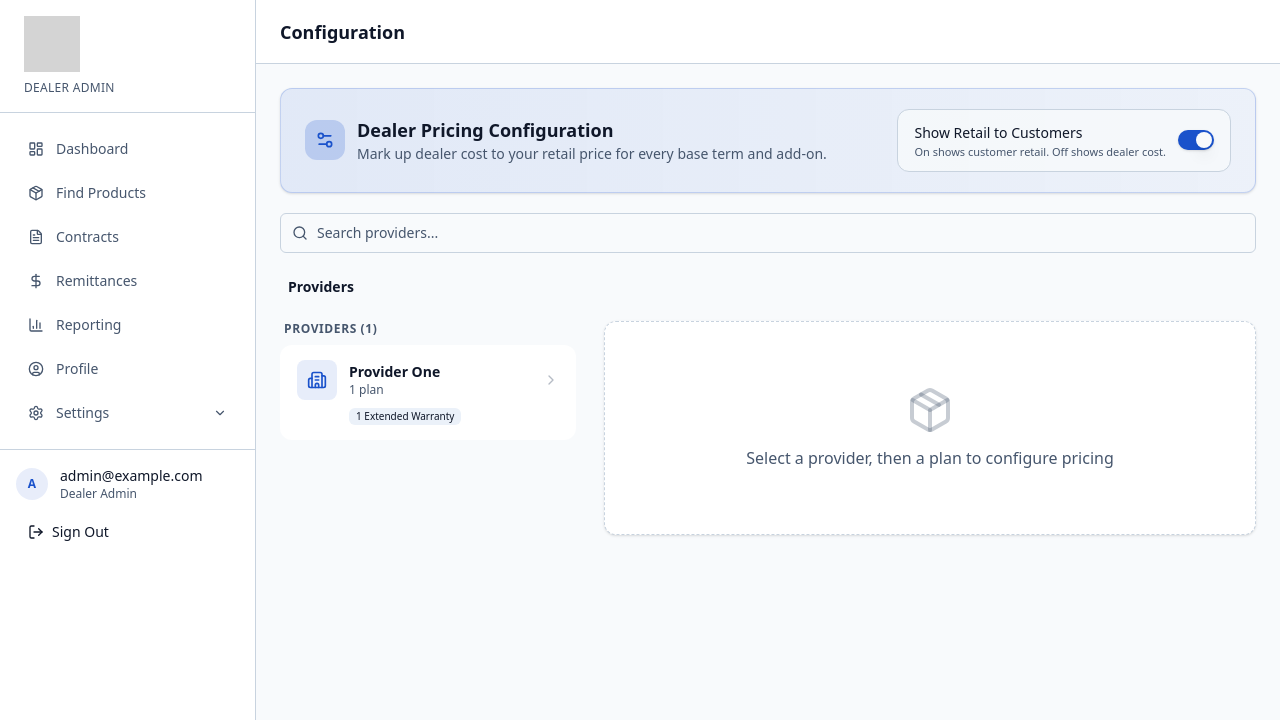
Test: dealer pricing recommendation display › keeps REC visible after a retail price has been applied
Click the button "Provider One 1 plan 1 Extended Warranty".
click(317, 380)  # box [280,344,576,440]
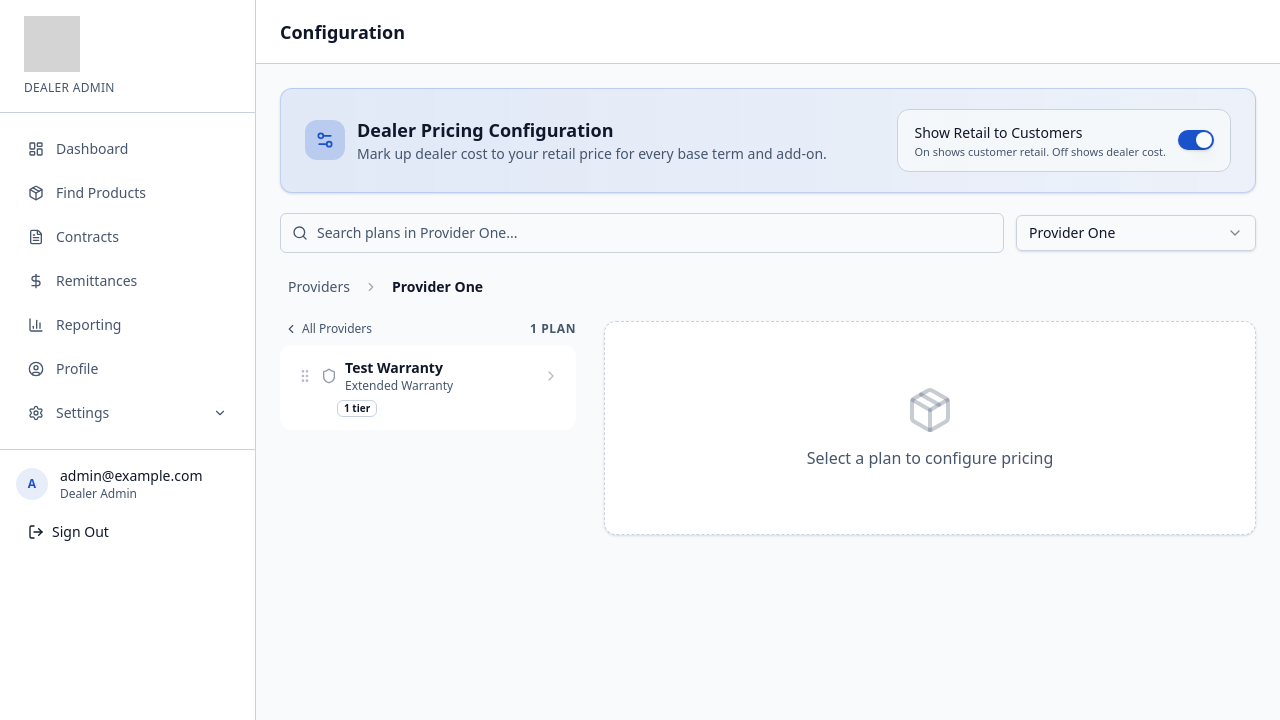
Click the button "Test Warranty Extended Warranty 1 tier".
click(428, 387)  # box [280,344,576,430]
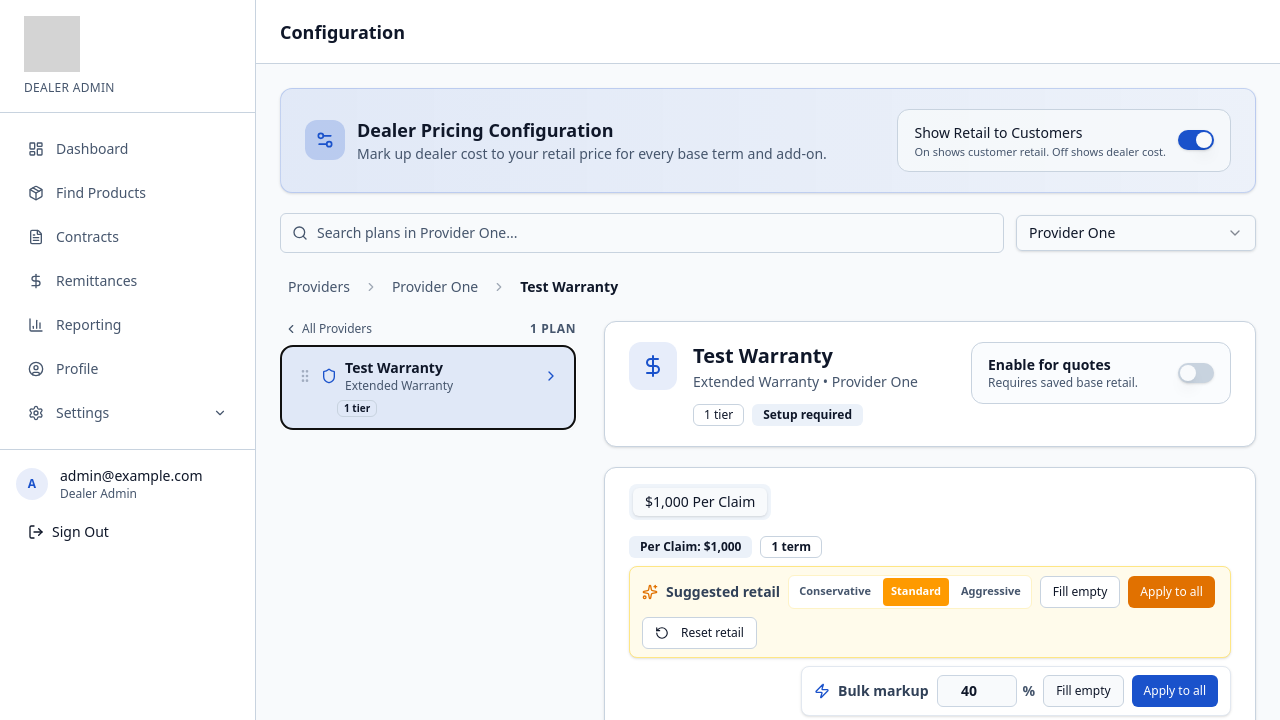
Click the button "Aggressive".
click(991, 592)  # box [953,578,1029,606]
(page scrolled)
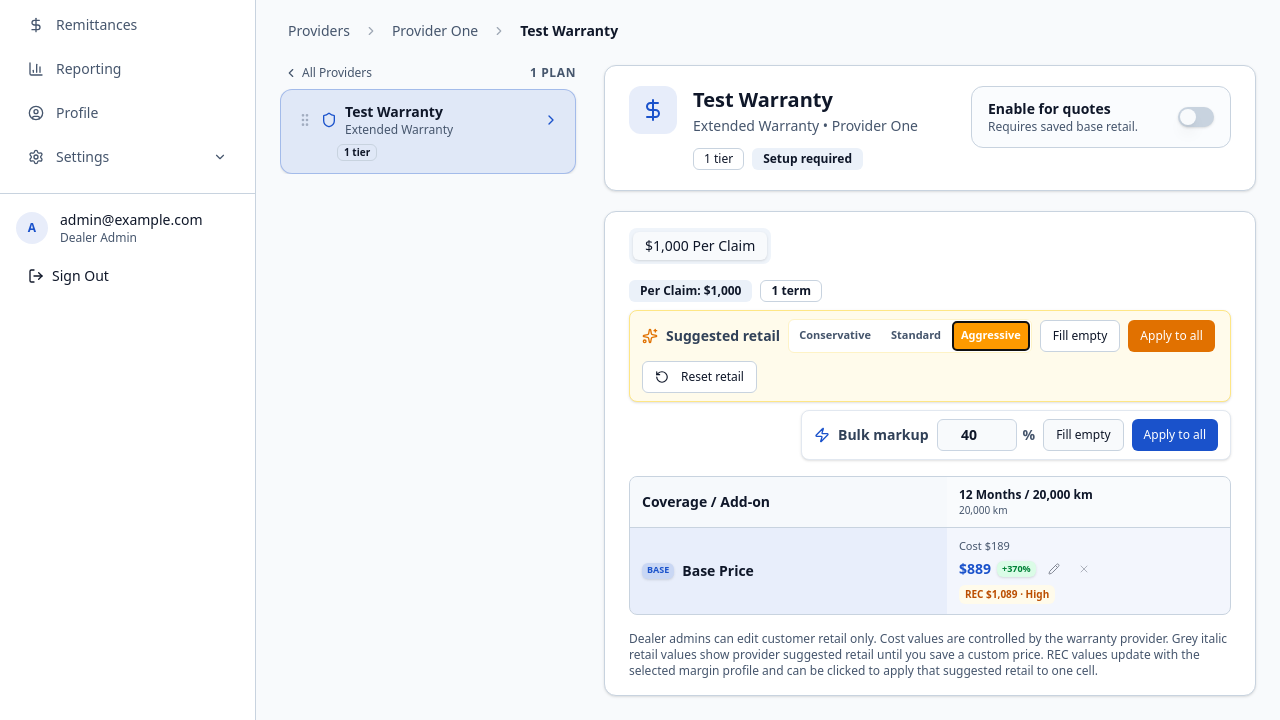
Check: the text "$889" is shown, box [959,560,991,580]
Check: the button "REC $1,089 · High" is shown
Click the button "REC $1,089 · High".
click(1007, 595)  # box [959,586,1055,604]
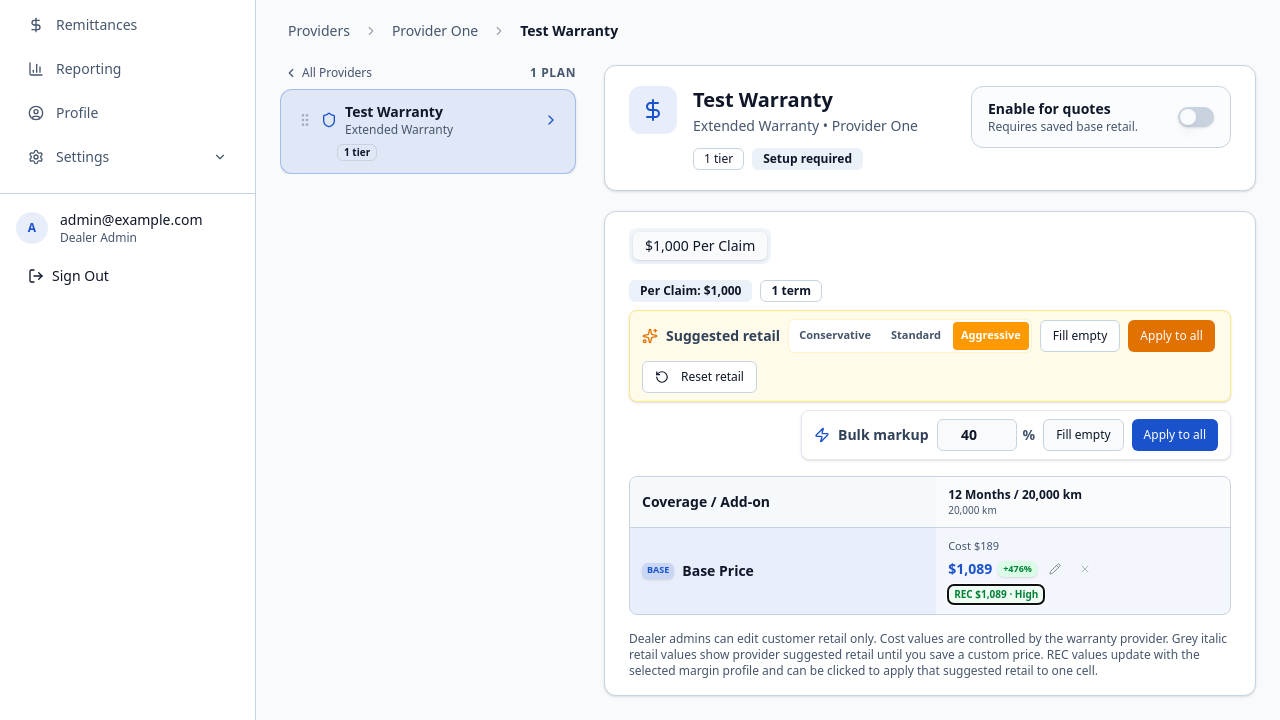
Check: the text "$1,089" is shown, box [948,560,992,580]
Check: the text "$889" is gone
